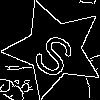S: (29, 24, 84, 81)
